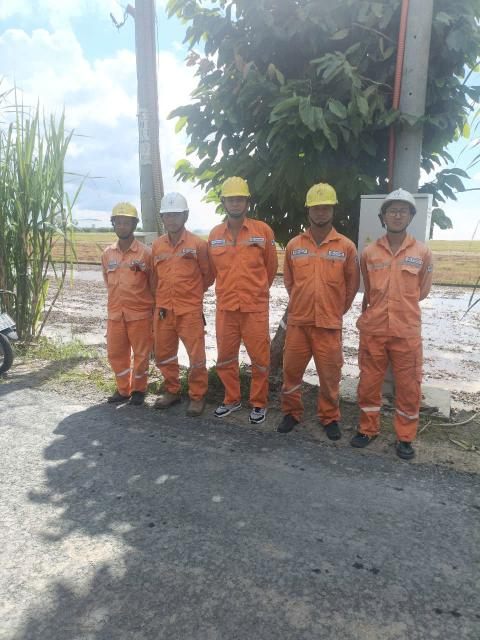helmet: (375, 184, 422, 214), (108, 198, 152, 230), (300, 180, 344, 211), (215, 173, 255, 204), (157, 190, 195, 218)
shoes: (318, 411, 343, 442), (214, 393, 242, 420), (396, 433, 419, 463), (153, 385, 180, 410), (349, 424, 377, 448), (278, 408, 301, 433), (185, 394, 204, 419), (249, 400, 266, 427), (107, 385, 128, 404), (130, 387, 148, 408)
